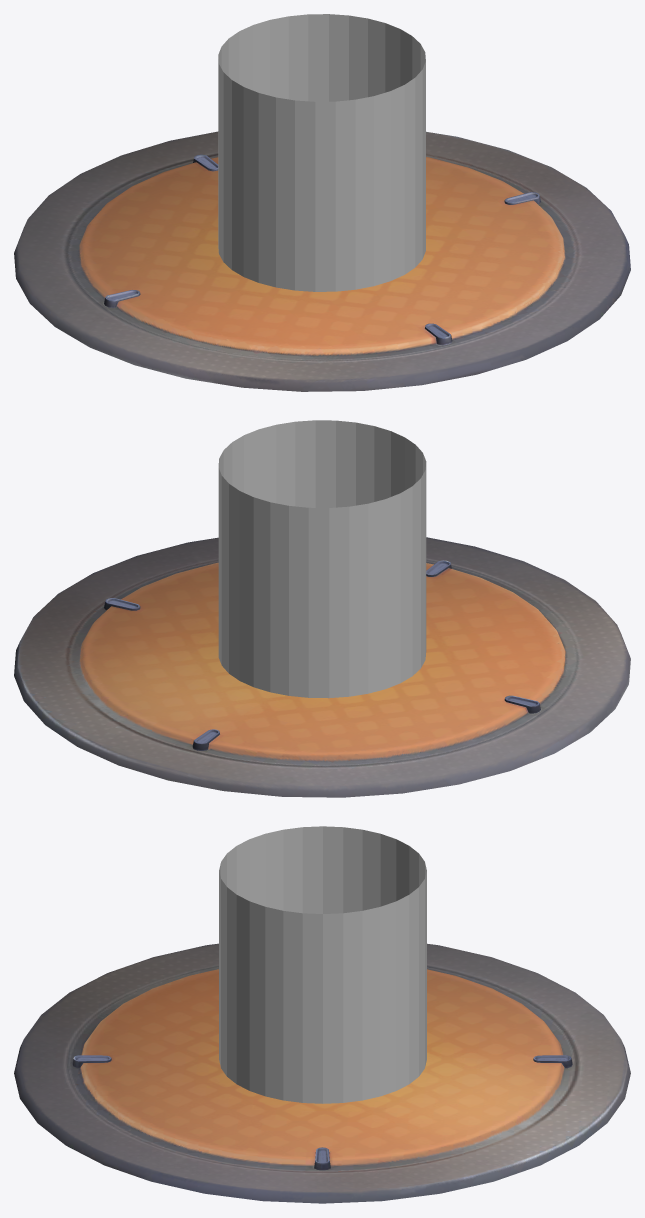
File: pref_TPC_v2_NeutralScoreArea03_orange_born_lv1.fbx
3 renders of one model, top to bottom at view 1: azimuth 30°, elevation 25°; view 2: azimuth 150°, elevation 25°; view 3: azimuth 270°, elevation 25°, orthographic.
Visible parts, largest first — view 1: sm_prop_platform06a_lv1, sm_fx_scorearea03_mesh_01_gp (1); view 2: sm_prop_platform06a_lv1, sm_fx_scorearea03_mesh_01_gp (1); view 3: sm_prop_platform06a_lv1, sm_fx_scorearea03_mesh_01_gp (1).
Boxes of the visible parts, x1,y1,x2,y2 form: sm_prop_platform06a_lv1: [14, 131, 630, 391]; sm_fx_scorearea03_mesh_01_gp (1): [218, 14, 425, 291]; sm_prop_platform06a_lv1: [14, 537, 630, 797]; sm_fx_scorearea03_mesh_01_gp (1): [218, 420, 426, 698]; sm_prop_platform06a_lv1: [14, 943, 630, 1203]; sm_fx_scorearea03_mesh_01_gp (1): [219, 826, 426, 1103].
Size of the model in its own units: 7.46 by 3.07 by 7.46.
